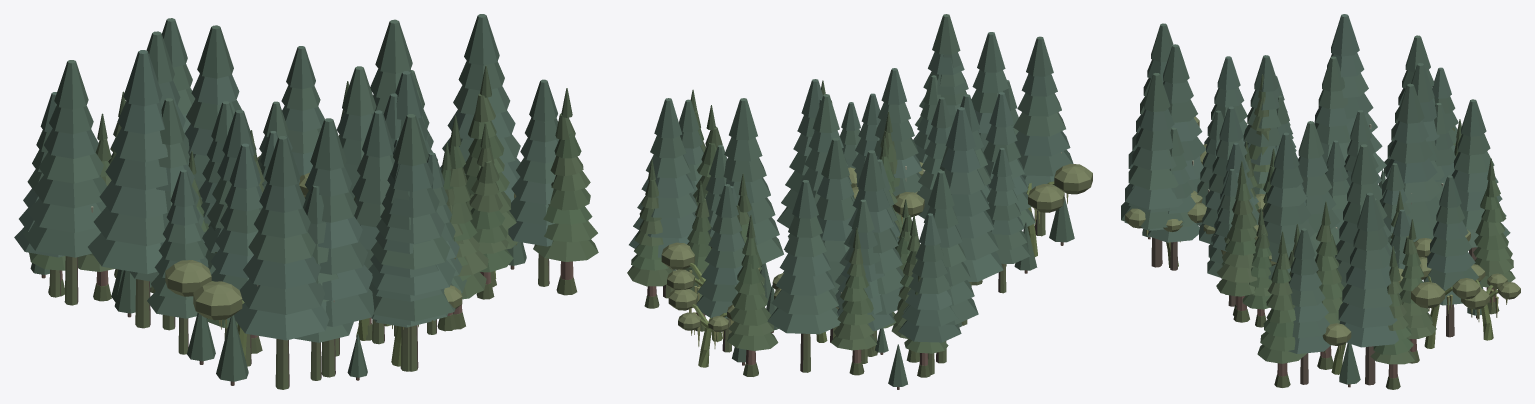
File: Mist_Forest_0_1.fbx
The picture shows the model from 3 angles, left to right: view 1: azimuth 30°, elevation 25°; view 2: azimuth 150°, elevation 25°; view 3: azimuth 270°, elevation 25°; orthographic projection. The views are drawn at different scales.
Parts seen in each view (by area): view 1: Mist_Forest_0_1; view 2: Mist_Forest_0_1; view 3: Mist_Forest_0_1.
Boxes of the visible parts, <box> form: Mist_Forest_0_1: <box>14,14,598,389</box>; Mist_Forest_0_1: <box>627,14,1092,389</box>; Mist_Forest_0_1: <box>1121,14,1520,389</box>.
Size of the model in its own units: 43.64 by 27.79 by 42.1.
